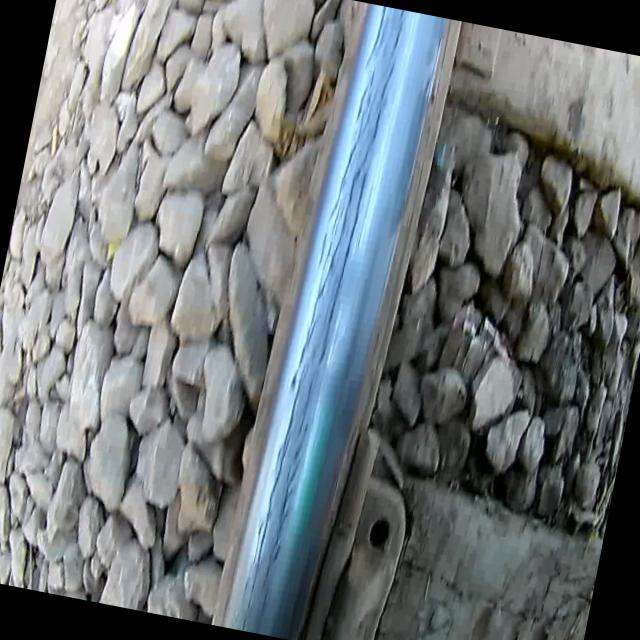Cracks: (233, 1, 413, 640)
